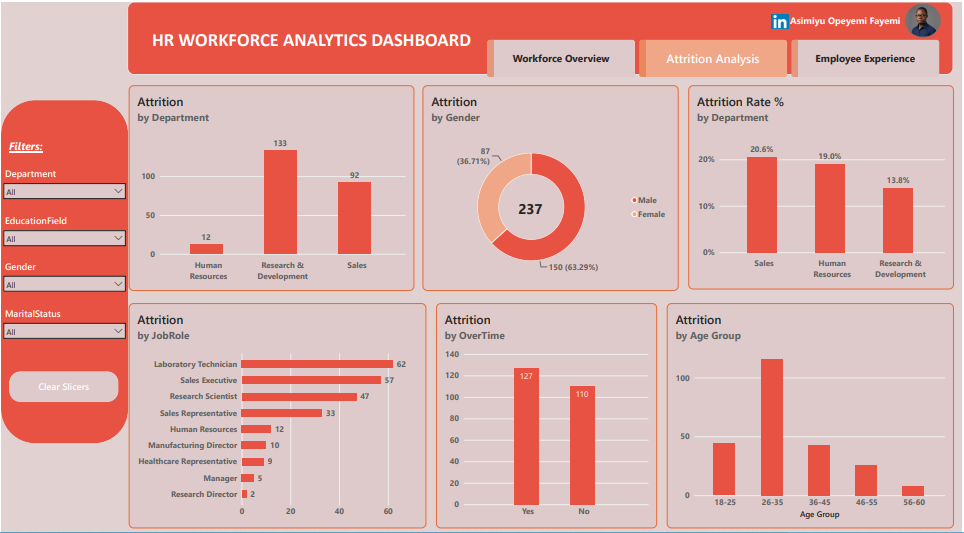

Layout of this report page (visuals, bound fields, positions):
{"tool":"powerbi","page":{"name":"Attrition Analysis","canvas":[1920,1080],"ordinal":1},"visuals":[{"type":"shape","box":[253.5,0,1648.7,144.5],"z":0,"group":"g3"},{"type":"clusteredColumnChart","fields":{"Category":["HR-Employee-Attrition.Department","HR-Employee-Attrition.WorkLifeBalance"],"Y":["HR-Employee-Attrition.Employees Left"]},"box":[254.7,166.3,571.2,410.3],"z":0},{"type":"clusteredBarChart","fields":{"Category":["HR-Employee-Attrition.JobRole","HR-Employee-Attrition.MaritalStatus"],"Y":["HR-Employee-Attrition.Employees Left"]},"box":[254.7,600.7,595.3,450.5],"z":1000},{"type":"donutChart","fields":{"Category":["HR-Employee-Attrition.Gender"],"Y":["HR-Employee-Attrition.Employees Left"]},"box":[842,166.3,512.2,410.3],"z":2000},{"type":"shape","box":[0,196.2,254.3,685.5],"z":2000,"group":"g1"},{"type":"clusteredColumnChart","fields":{"Category":["HR-Employee-Attrition.Age Group"],"Y":["HR-Employee-Attrition.Employees Left"]},"box":[1330.1,600.7,573.9,450.5],"z":3000},{"type":"clusteredColumnChart","fields":{"Category":["HR-Employee-Attrition.OverTime"],"Y":["HR-Employee-Attrition.Employees Left"]},"box":[868.8,600.7,442.5,450.5],"z":4000},{"type":"group","id":"g1","title":"Group 1","box":[0,196.2,254.3,685.5],"z":5000},{"type":"group","id":"g2","title":"Group 4","box":[253.5,0,1648.7,149.9],"z":6000},{"type":"cardVisual","fields":{"Data":["HR-Employee-Attrition.Employees Left"]},"box":[1000.7,370.3,114.6,79.3],"z":6001},{"type":"clusteredColumnChart","fields":{"Category":["HR-Employee-Attrition.Department"],"Y":["HR-Employee-Attrition.Attrition Rate %"]},"box":[1373,166.3,530.9,407.6],"z":6002},{"type":"image","box":[1540.1,11,33.1,55.1],"z":8000,"group":"g4"},{"type":"group","id":"g3","title":"Group 2","box":[253.5,0,1648.7,149.9],"z":8500,"group":"g2"},{"type":"group","id":"g4","title":"Group 3","box":[1540.1,4.4,337.2,66.1],"z":9000,"group":"g2"},{"type":"textbox","box":[1577.6,24.2,257.9,28.7],"z":9000,"group":"g4"},{"type":"pageNavigator","box":[971.6,74.9,903.7,74.9],"z":9000,"group":"g3"},{"type":"slicer","fields":{"Values":["HR-Employee-Attrition.Department"]},"box":[0,329.9,253.8,93.9],"z":10000,"group":"g1"},{"type":"image","box":[1806.8,4.4,70.5,66.1],"z":10001,"group":"g4"},{"type":"slicer","fields":{"Values":["HR-Employee-Attrition.EducationField"]},"box":[0,423.7,253.8,91.2],"z":11000,"group":"g1"},{"type":"slicer","fields":{"Values":["HR-Employee-Attrition.Gender"]},"box":[0,514.9,253.8,93.9],"z":12000,"group":"g1"},{"type":"slicer","fields":{"Values":["HR-Employee-Attrition.MaritalStatus"]},"box":[0,608.8,253.8,91.2],"z":13000,"group":"g1"},{"type":"textbox","box":[15.9,273.6,145.4,48.3],"z":14000,"group":"g1"},{"type":"actionButton","box":[15.9,737.5,219.5,61.7],"z":15000,"group":"g1"},{"type":"textbox","box":[282.6,50.9,676.4,61.6],"z":16000,"group":"g3"}]}

Visuals, with their boxes in screenshot pixels (x1, y1, x2, y2), scaled from the page's 1920x1080 canvas onto the 964x533 screenshot:
shape: rect(127, 0, 955, 71)
clusteredColumnChart - HR-Employee-Attrition.Department x HR-Employee-Attrition.WorkLifeBalance: rect(128, 82, 415, 285)
clusteredBarChart - HR-Employee-Attrition.JobRole x HR-Employee-Attrition.MaritalStatus: rect(128, 296, 427, 519)
donutChart - HR-Employee-Attrition.Gender x HR-Employee-Attrition.Employees Left: rect(423, 82, 680, 285)
shape: rect(0, 97, 128, 435)
clusteredColumnChart - HR-Employee-Attrition.Age Group x HR-Employee-Attrition.Employees Left: rect(668, 296, 956, 519)
clusteredColumnChart - HR-Employee-Attrition.OverTime x HR-Employee-Attrition.Employees Left: rect(436, 296, 658, 519)
"Group 1" group: rect(0, 97, 128, 435)
"Group 4" group: rect(127, 0, 955, 74)
cardVisual - HR-Employee-Attrition.Employees Left: rect(502, 183, 560, 222)
clusteredColumnChart - HR-Employee-Attrition.Department x HR-Employee-Attrition.Attrition Rate %: rect(689, 82, 956, 283)
image: rect(773, 5, 790, 33)
"Group 2" group: rect(127, 0, 955, 74)
"Group 3" group: rect(773, 2, 943, 35)
textbox: rect(792, 12, 922, 26)
pageNavigator: rect(488, 37, 942, 74)
slicer - HR-Employee-Attrition.Department: rect(0, 163, 127, 209)
image: rect(907, 2, 943, 35)
slicer - HR-Employee-Attrition.EducationField: rect(0, 209, 127, 254)
slicer - HR-Employee-Attrition.Gender: rect(0, 254, 127, 300)
slicer - HR-Employee-Attrition.MaritalStatus: rect(0, 300, 127, 345)
textbox: rect(8, 135, 81, 159)
actionButton: rect(8, 364, 118, 394)
textbox: rect(142, 25, 481, 56)
